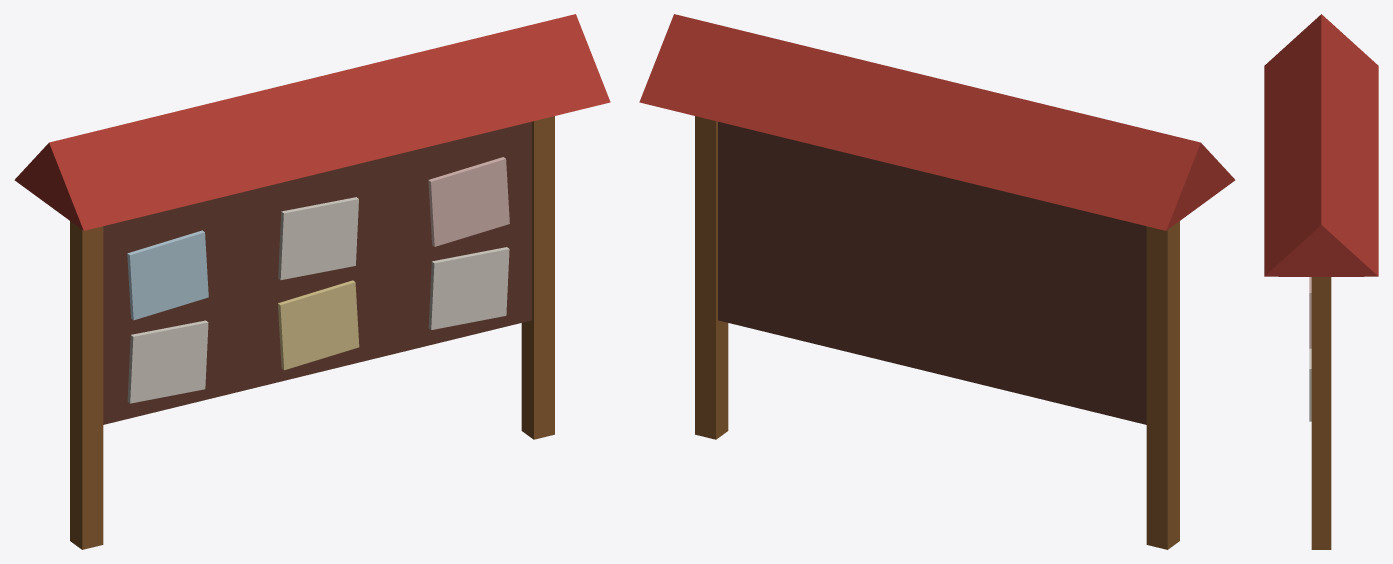
Rendered from order_board.glb.
The picture shows the model from 3 angles, left to right: view 1: azimuth 30°, elevation 25°; view 2: azimuth 150°, elevation 25°; view 3: azimuth 270°, elevation 25°; orthographic projection. The views are drawn at different scales.
Parts seen in each view (by area): view 1: building-order_board; view 2: building-order_board; view 3: building-order_board.
Part boxes in pixels (x1,y1,x2,y2): building-order_board: [14, 14, 610, 549]; building-order_board: [639, 14, 1235, 549]; building-order_board: [1264, 14, 1378, 549].
Bounding box in the file's own units: 3.5 × 2.6 × 0.7998.
